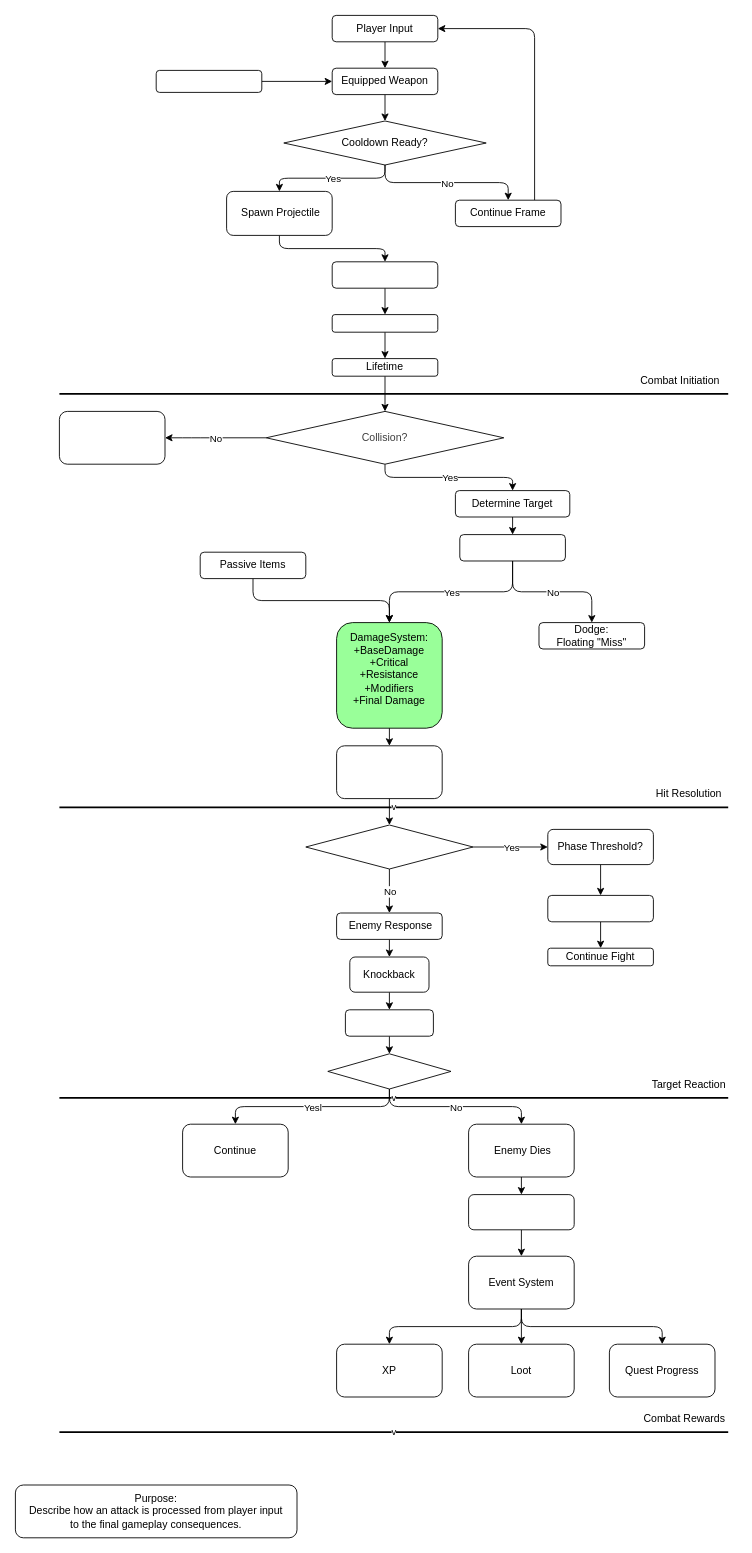
The diagram is 752 pixels wide and 1553 high, and some of its shapes have lost their labels. The shapes that lost their labels are listed below. From the top down, each one's centre as x and y in pixels, then its label:
At (208,81): "Weapon Modules".
At (384,274): "Projectile Simulation".
At (384,323): "Movement".
At (112,437): "Fly".
At (512,547): "Hit Successful?".
At (389,772): "Status Effects".
At (389,846): "Boss?".
At (600,908): "Change Phase".
At (389,1022): "AI Decision".
At (389,1071): "Still Alive?".
At (521,1212): "Death Animation".
